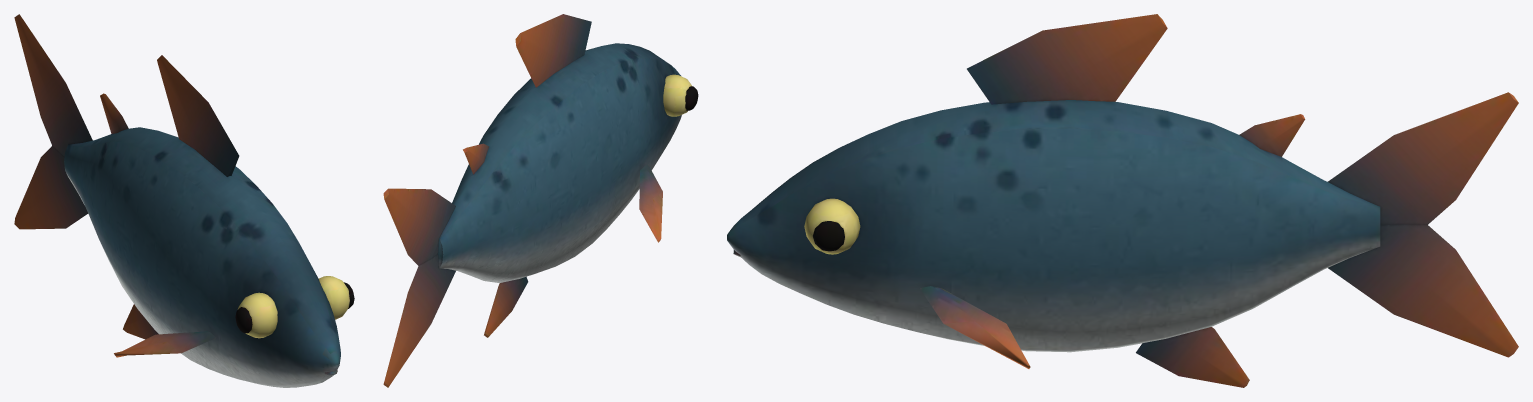
File: fish.glb
The picture shows the model from 3 angles, left to right: view 1: azimuth 30°, elevation 25°; view 2: azimuth 150°, elevation 25°; view 3: azimuth 270°, elevation 25°; orthographic projection. The views are drawn at different scales.
Parts seen in each view (by area): view 1: Fish; view 2: Fish; view 3: Fish.
Boxes of the visible parts, <box> form: Fish: <box>14,14,354,387</box>; Fish: <box>383,14,698,387</box>; Fish: <box>727,14,1518,387</box>.
Size of the model in its own units: 0.4062 by 0.5875 by 1.13.
1 material, 1 textured.
